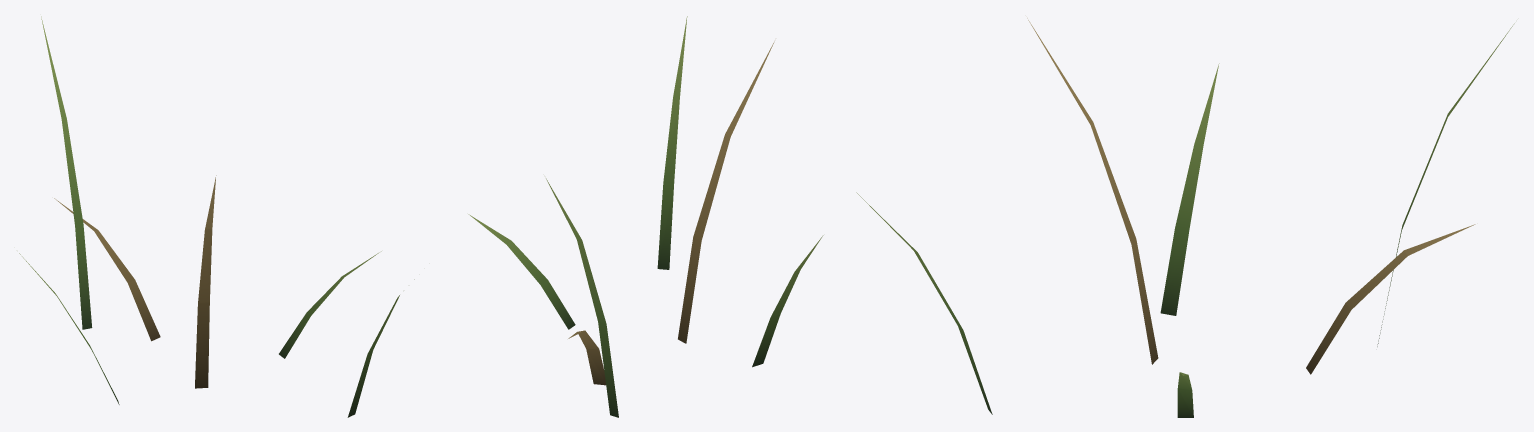
Rendered from grass_forest_sparse_01.glb.
The picture shows the model from 3 angles, left to right: view 1: azimuth 30°, elevation 25°; view 2: azimuth 150°, elevation 25°; view 3: azimuth 270°, elevation 25°; orthographic projection. The views are drawn at different scales.
Visible parts, largest first — view 1: grass_forest_sparse_01_mesh; view 2: grass_forest_sparse_01_mesh; view 3: grass_forest_sparse_01_mesh.
Boxes of the visible parts, x1,y1,x2,y2 form: grass_forest_sparse_01_mesh: [19, 16, 414, 417]; grass_forest_sparse_01_mesh: [468, 16, 823, 417]; grass_forest_sparse_01_mesh: [856, 18, 1514, 417].
Size of the model in its own units: 0.3154 by 0.2295 by 0.4117.
